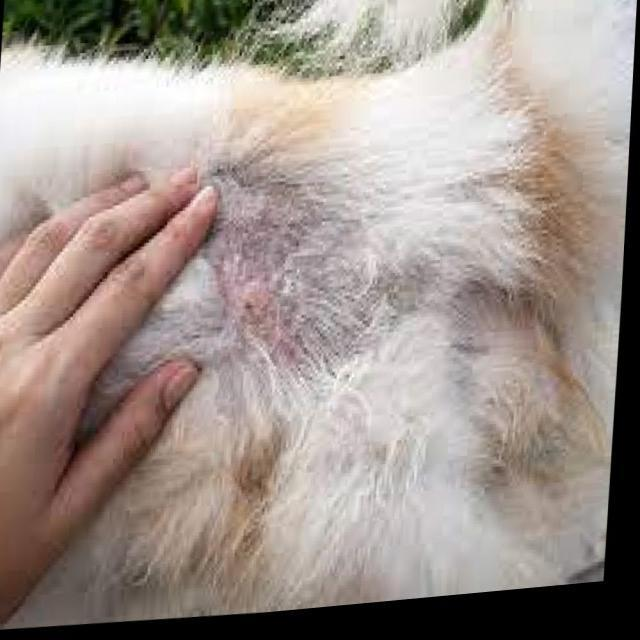allergic dermatitis: (205, 172, 297, 350)
